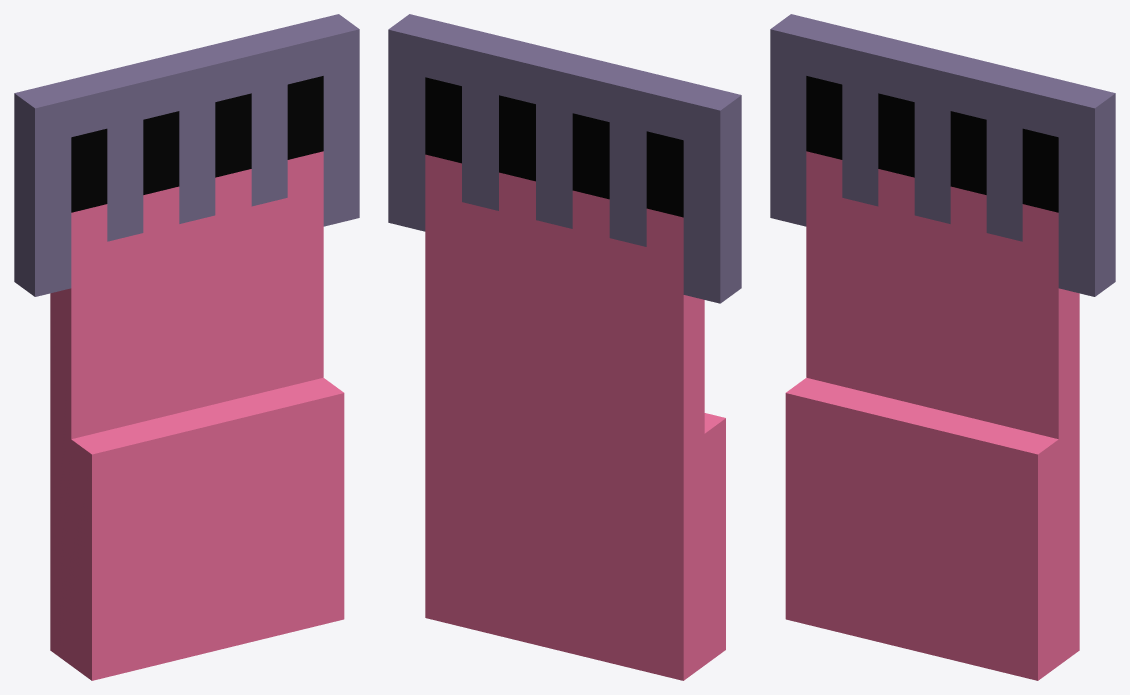
The model's file is wall_grate_a_passing_juice.obj.
3 renders of one model, left to right at view 1: azimuth 30°, elevation 25°; view 2: azimuth 150°, elevation 25°; view 3: azimuth 330°, elevation 25°, orthographic. The views are drawn at different scales.
Bounding box in the file's own units: 0.9 × 1.5 × 0.2.
1 material, 1 textured.
